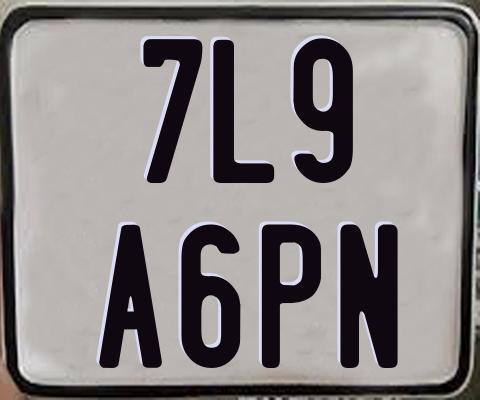6: (178, 223, 240, 369)
7: (143, 36, 209, 186)
9: (292, 36, 352, 187)
A: (99, 222, 168, 369)
L: (211, 40, 278, 188)
N: (340, 222, 399, 367)
P: (262, 224, 324, 373)
